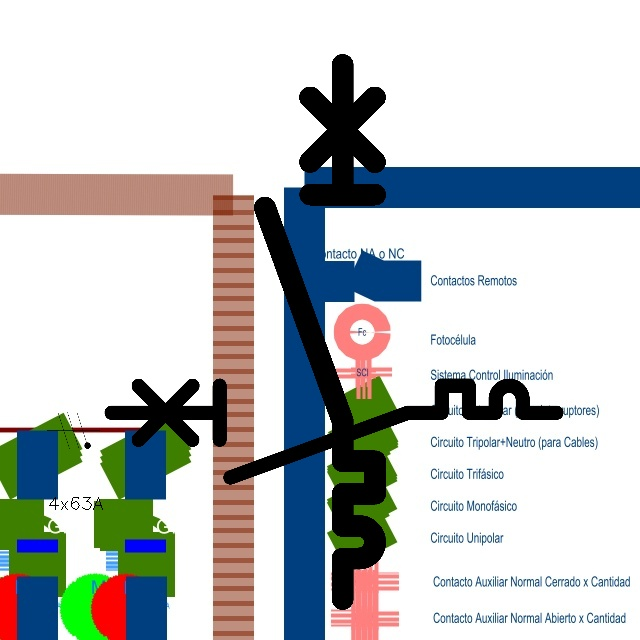interruptor_termomagnetico: (251, 51, 389, 613), (99, 374, 567, 488)
